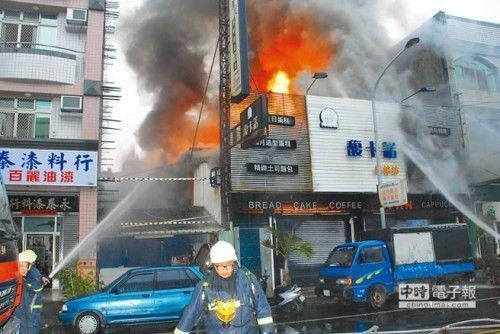fire: (266, 68, 293, 93)
